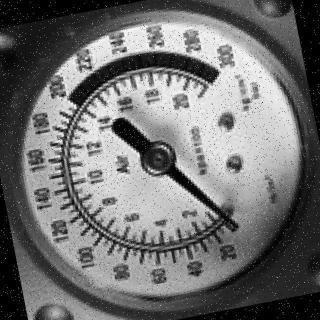gauge: (10, 5, 320, 317), (186, 60, 254, 114), (207, 192, 251, 249), (137, 137, 182, 181), (225, 212, 242, 232)
